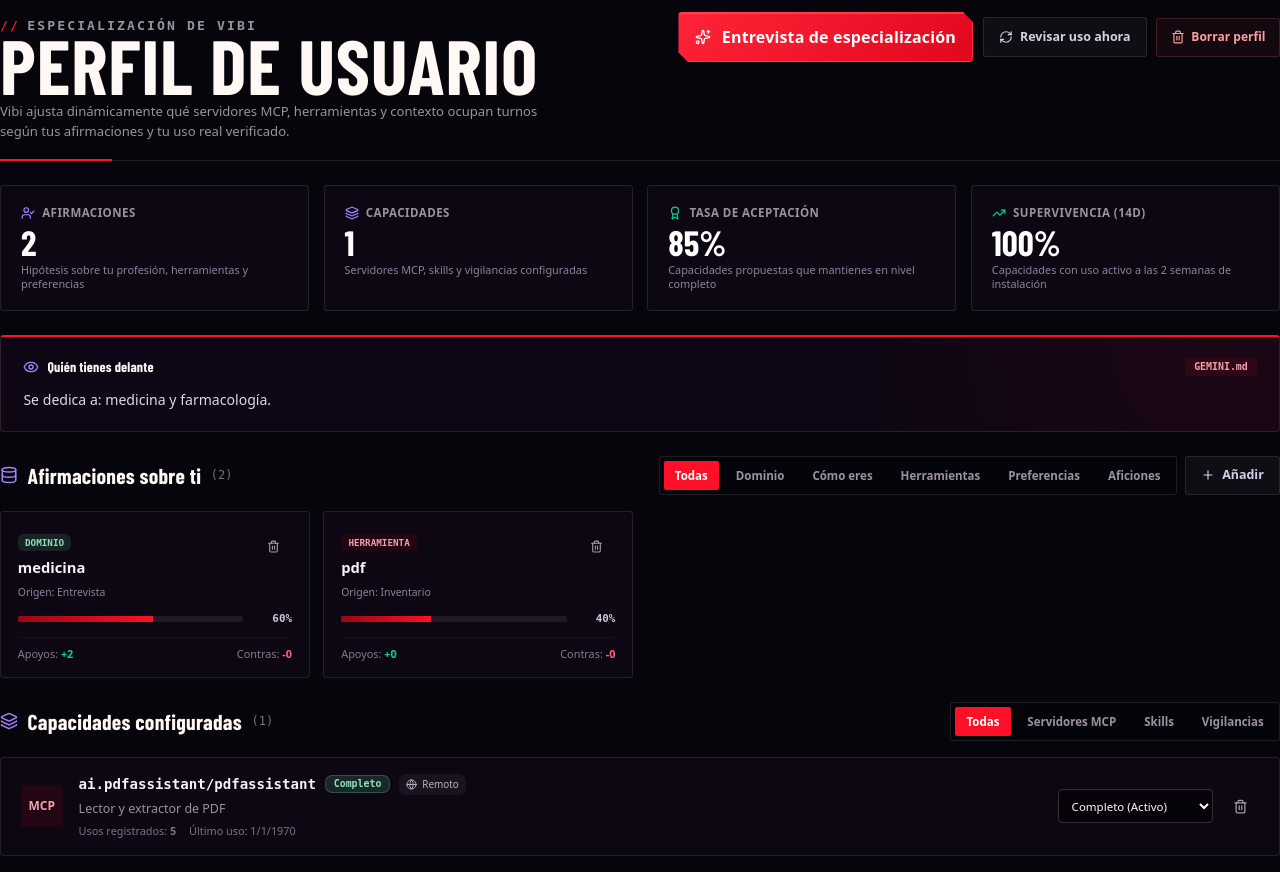
Test case: PerfilPage › permite añadir una afirmación manual
Expected: the text "medicina" is shown, top-left (18, 557), bottom-right (85, 577)
// Abrir formulario
Click the button "Añadir" at (1232, 475), box top-left (1185, 456), bottom-right (1279, 495)
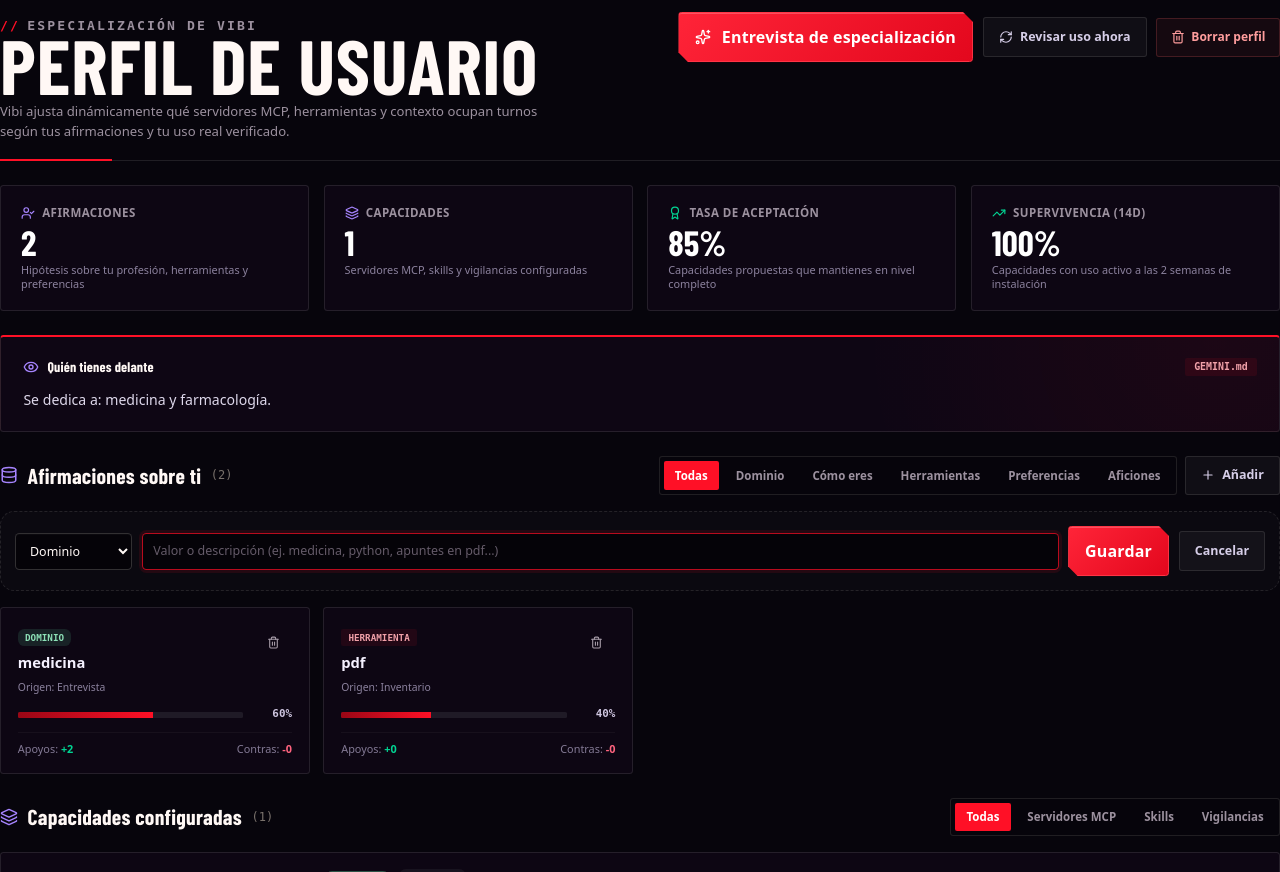
Type "cardiologia" into the field with placeholder "Valor o descripción" at (600, 551), box top-left (142, 533), bottom-right (1058, 570)
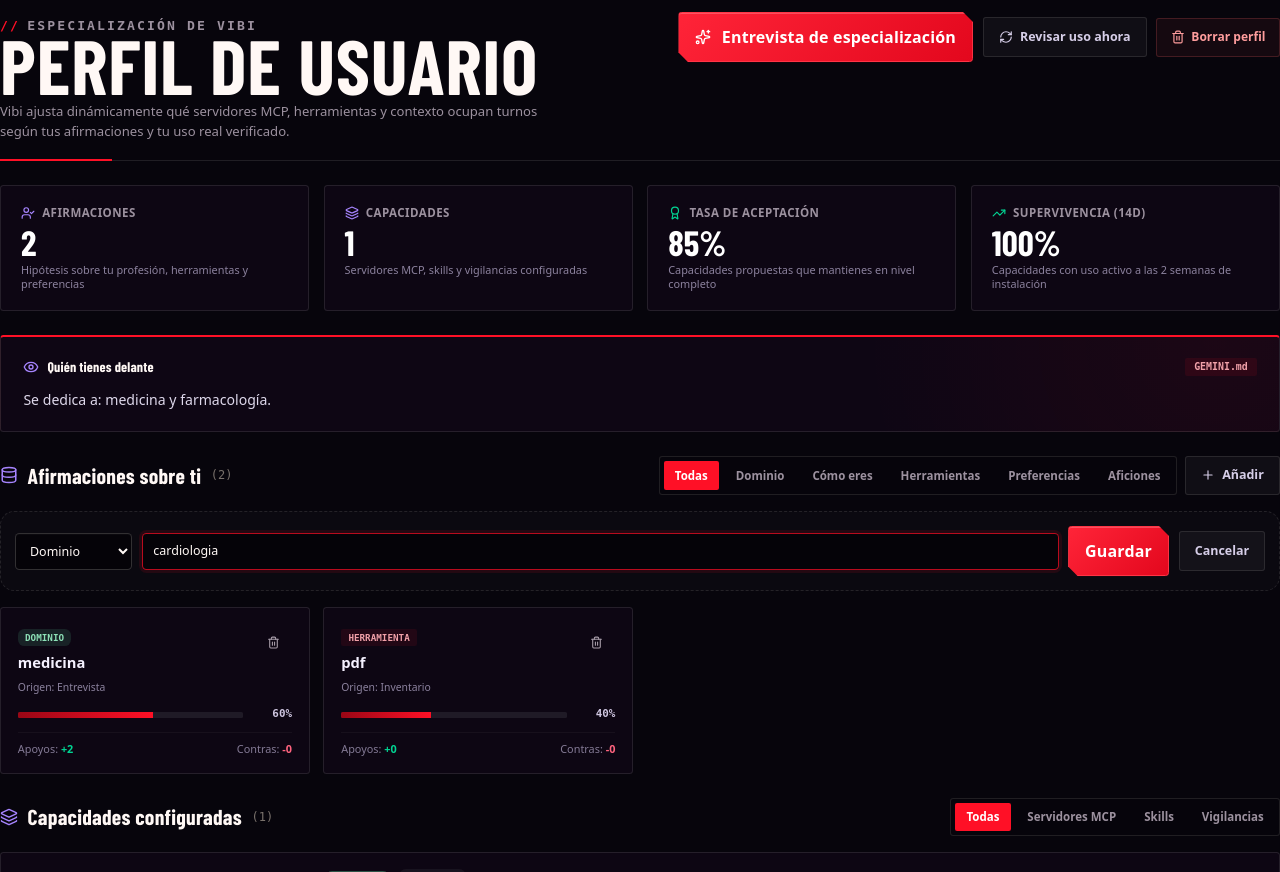
Click the button "Guardar" at (1119, 551), box top-left (1068, 526), bottom-right (1169, 576)
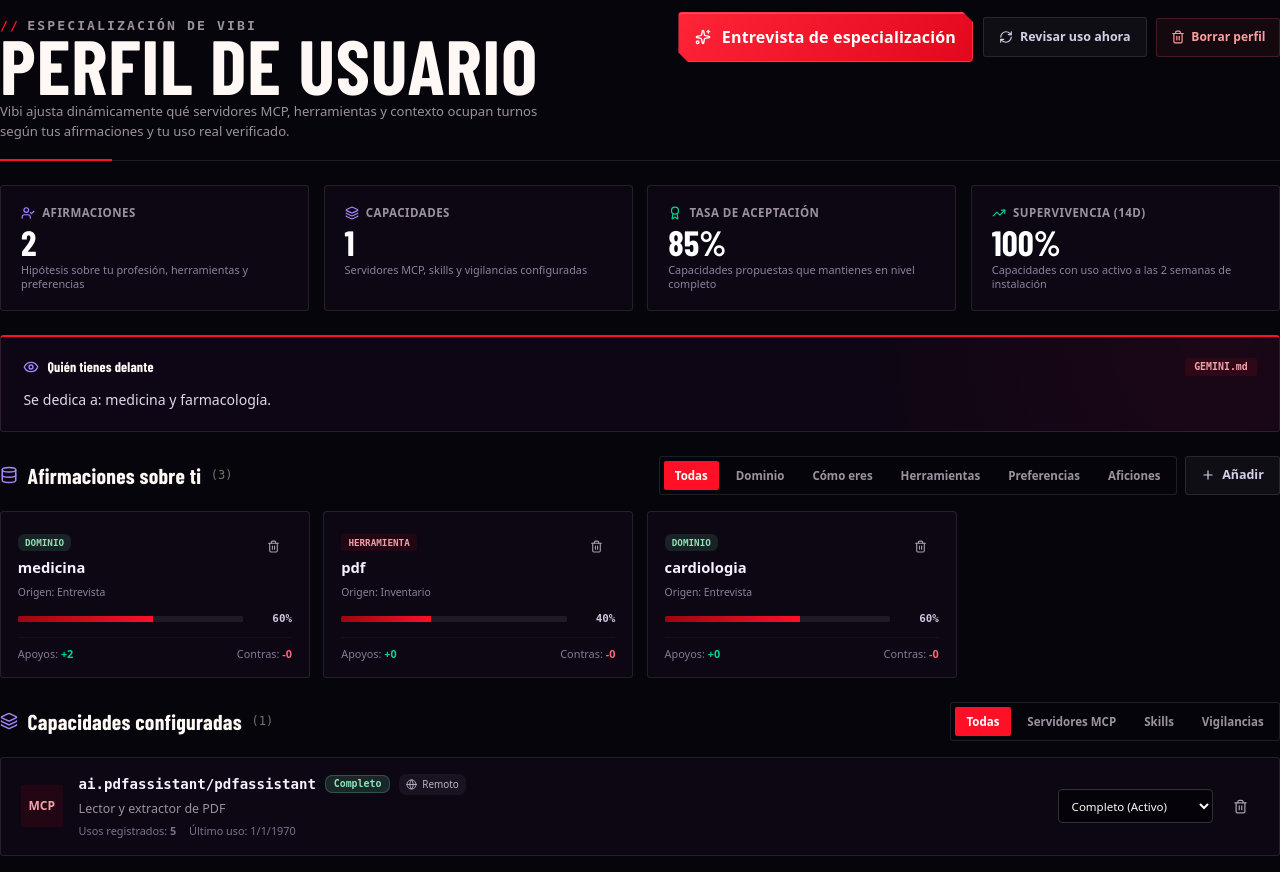
Expected: the text "cardiologia" is shown, top-left (665, 556), bottom-right (752, 578)
